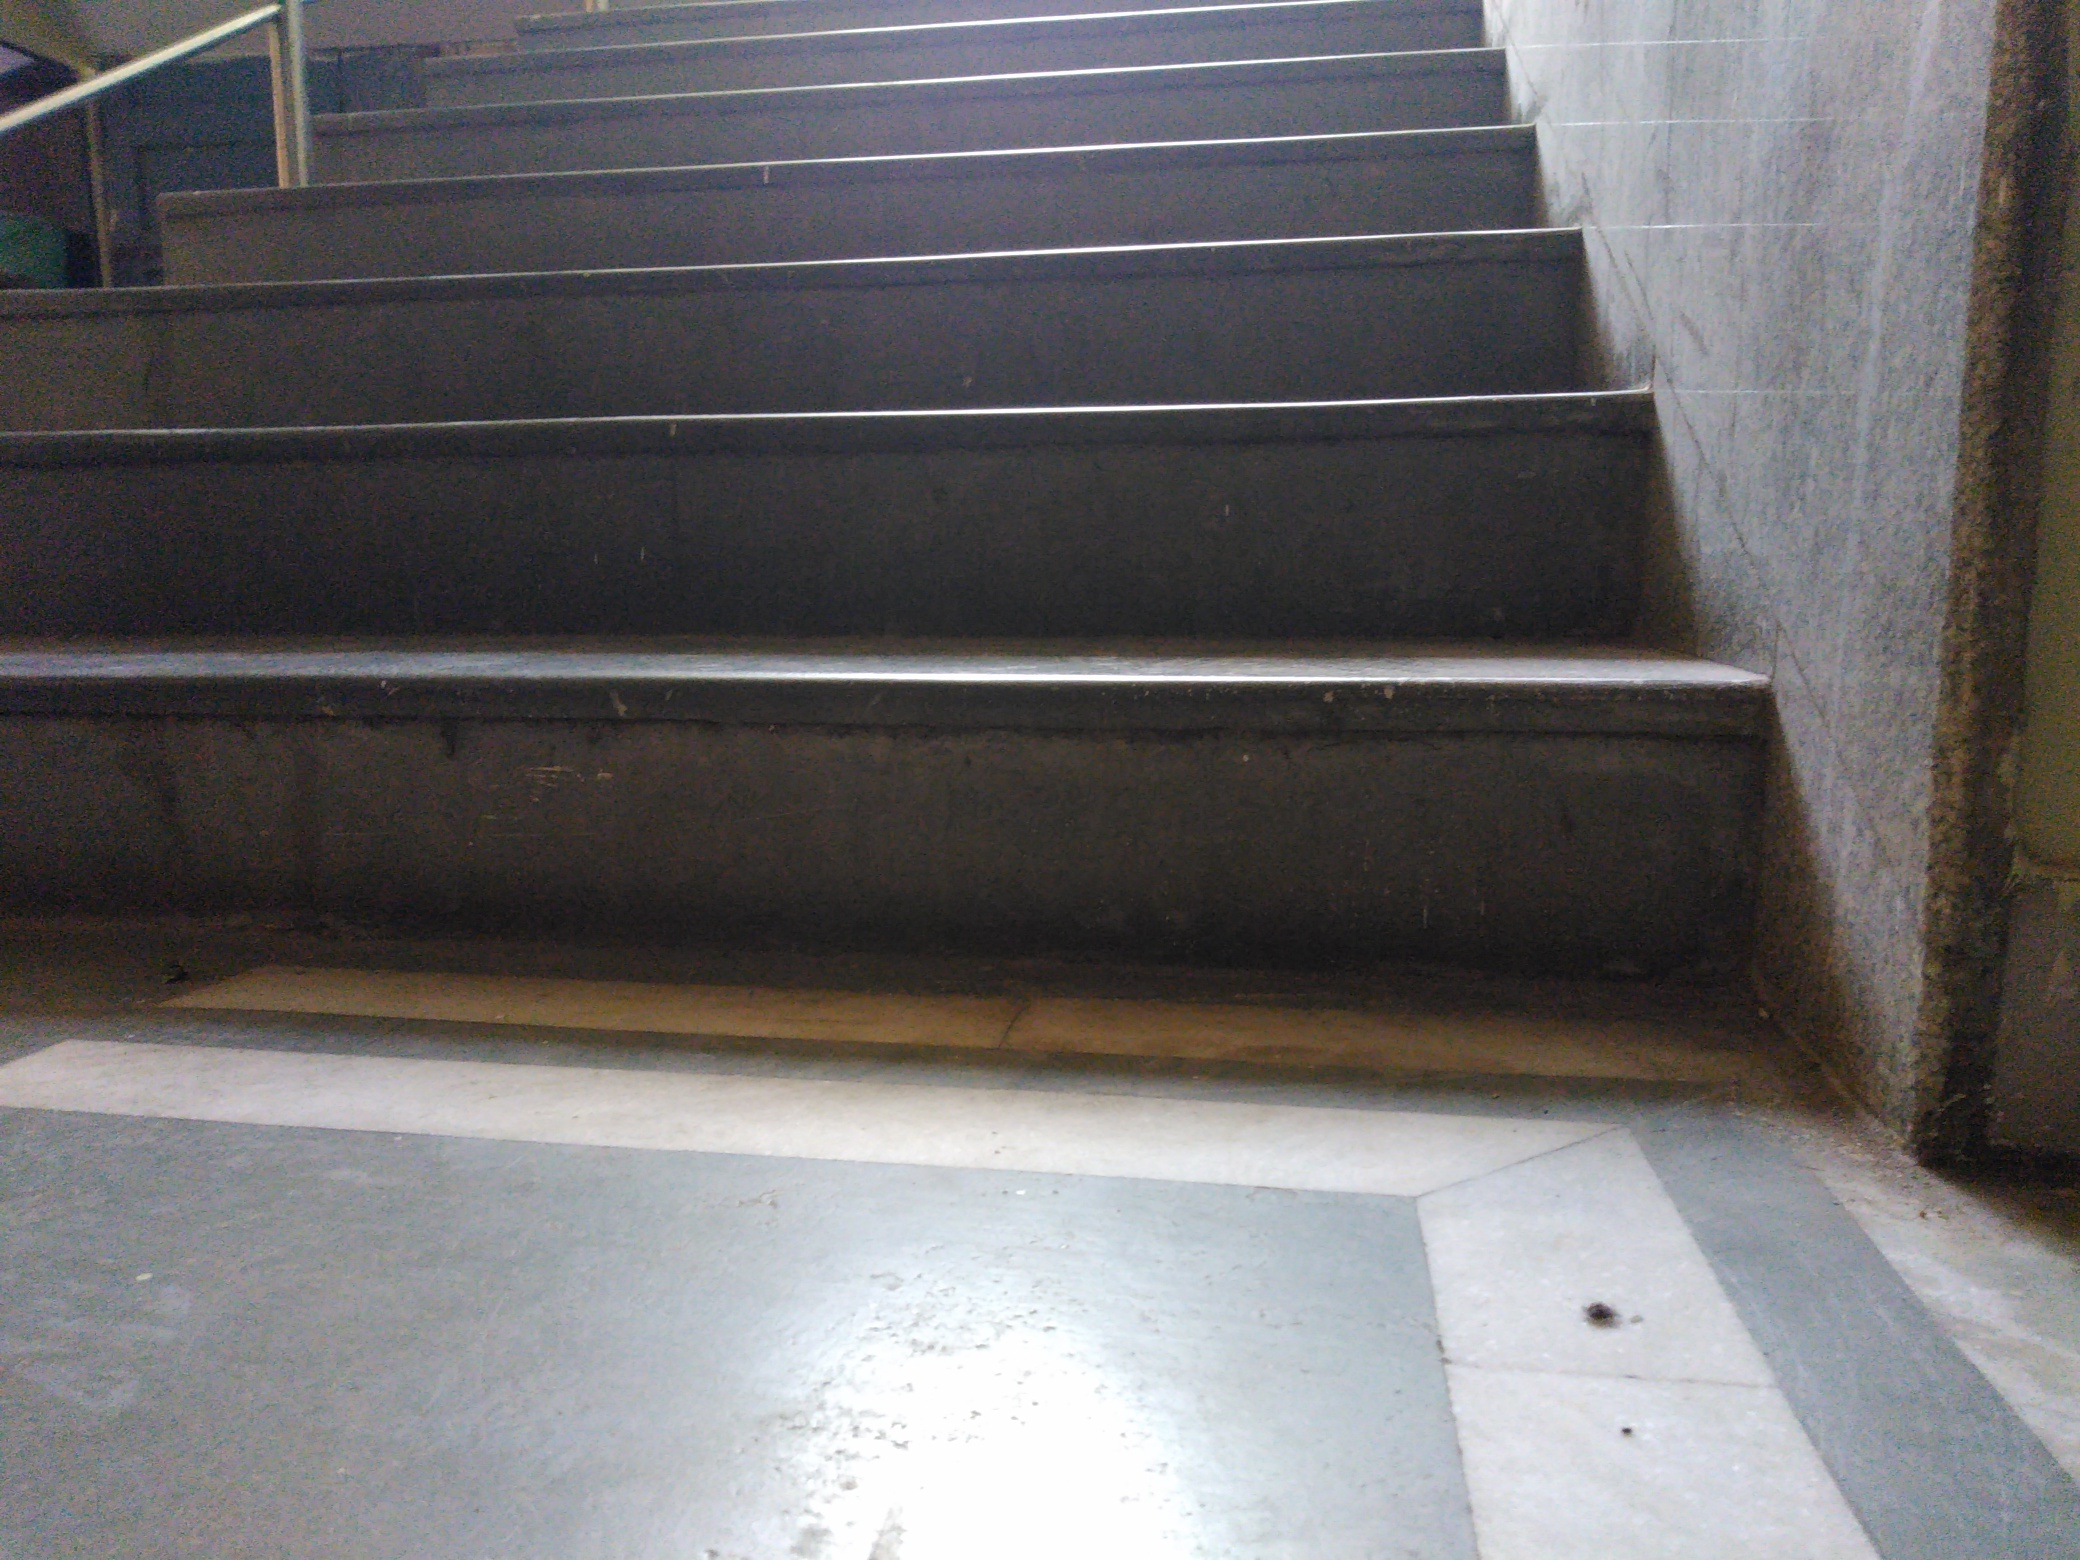stairs_up: (15, 11, 1562, 968)
